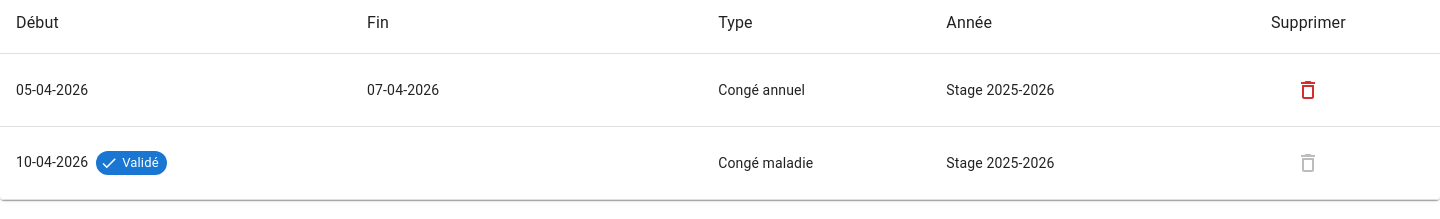
Test case: Absence — suppression › retire la ligne immédiatement (optimiste)
Expected: the text "Congé annuel" is shown, [702, 54, 930, 127]
Click the button named "supprimer" in the row of "05-04-2026": [1308, 90] box [1288, 70, 1328, 110]
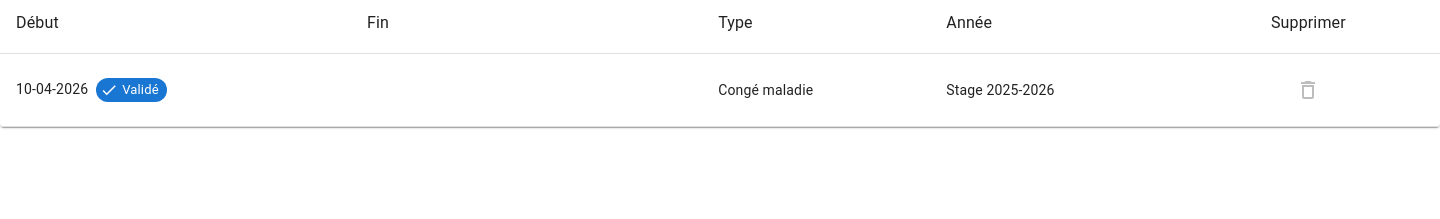
Now the checkbox "Congé annuel" is gone
